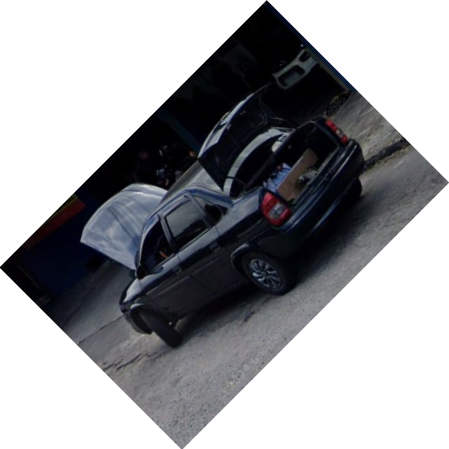car: (83, 79, 367, 347)
